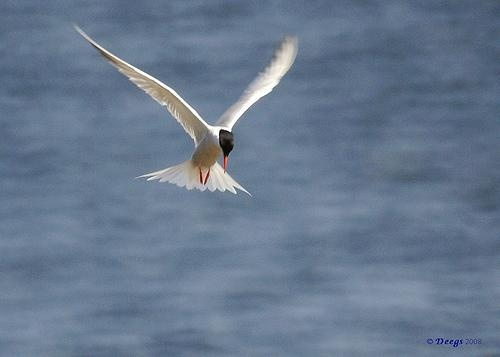bird: (73, 20, 308, 196)
